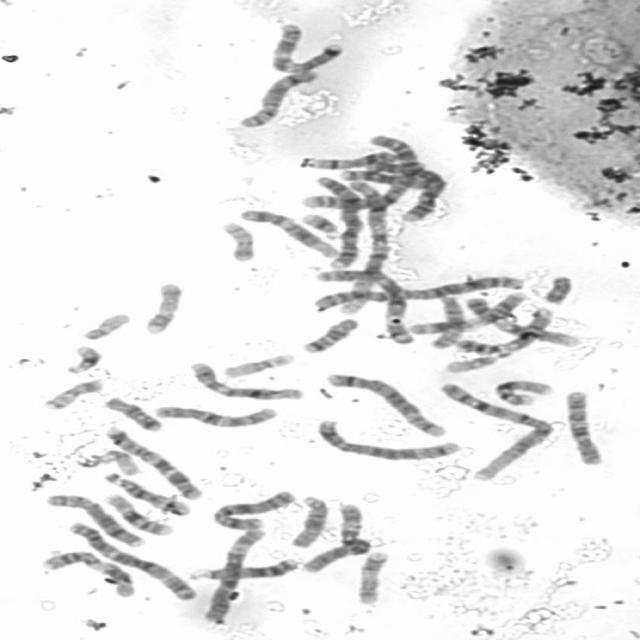A1: (432, 378, 556, 482), (328, 173, 396, 317)
A2: (297, 133, 425, 214), (310, 271, 528, 312)
A3: (61, 518, 200, 601), (310, 264, 417, 346)
B4: (308, 172, 367, 271), (362, 159, 449, 223)
B5: (319, 368, 448, 439), (311, 416, 464, 462)
C10: (561, 386, 609, 467), (149, 401, 282, 429)
C11: (404, 288, 532, 336), (35, 546, 137, 599)
C12: (234, 205, 342, 258), (184, 358, 309, 401)
C6: (197, 524, 267, 624), (296, 500, 373, 574)
C7: (97, 422, 205, 501), (264, 20, 346, 74)
C8: (41, 488, 149, 548), (233, 66, 322, 129)
C9: (462, 293, 584, 347), (450, 305, 554, 356)
D13: (184, 554, 302, 582), (334, 167, 431, 190)
D14: (98, 468, 193, 517), (295, 149, 399, 170)
D15: (284, 492, 332, 549), (425, 290, 468, 350)
E16: (98, 489, 177, 536), (488, 375, 556, 407)
E17: (139, 278, 185, 336), (351, 547, 392, 606)
E18: (296, 314, 362, 354), (100, 393, 166, 433)
F19: (218, 349, 298, 378), (90, 445, 142, 477)
F20: (37, 375, 106, 411), (216, 218, 259, 262)
G21: (296, 208, 344, 240), (60, 341, 105, 375)
G22: (76, 309, 134, 341), (439, 350, 505, 374)
X: (206, 486, 298, 531)
Y: (537, 271, 577, 305)
